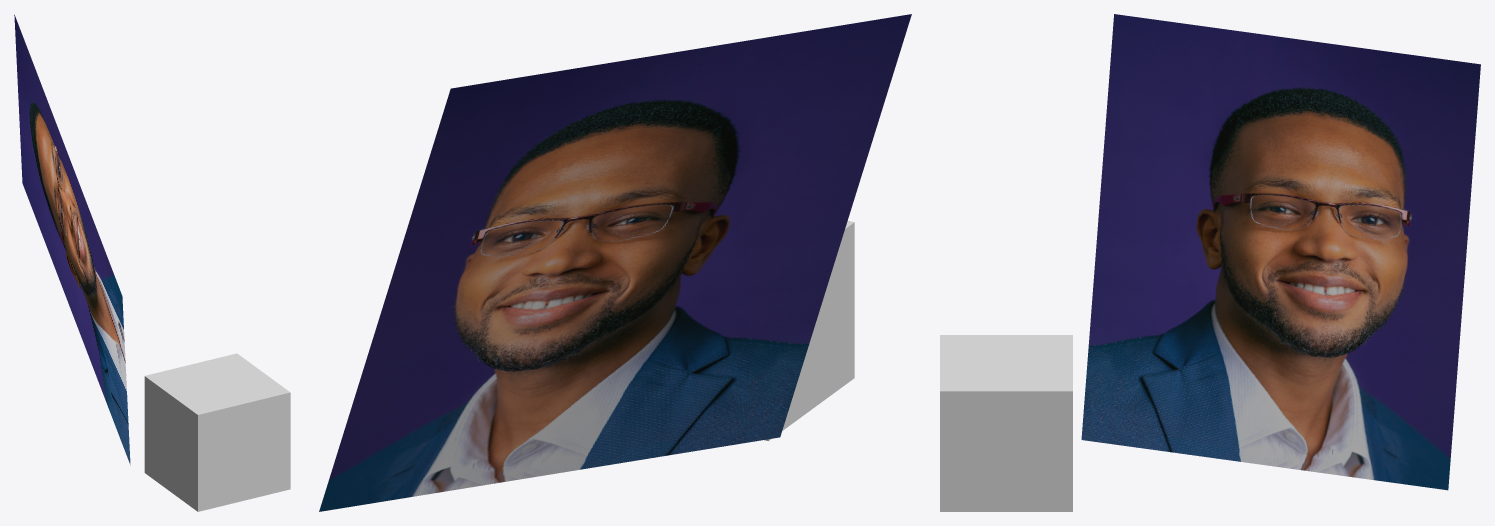
File: 3d_portrait.glb
The picture shows the model from 3 angles, left to right: view 1: azimuth 30°, elevation 25°; view 2: azimuth 150°, elevation 25°; view 3: azimuth 270°, elevation 25°; orthographic projection. The views are drawn at different scales.
Visible parts, largest first — view 1: Cube, Plane; view 2: Plane, Cube; view 3: Plane, Cube.
Part boxes in pixels (x1,y1,x2,y2): Cube: [144, 353, 290, 511]; Plane: [14, 14, 130, 465]; Plane: [319, 14, 911, 511]; Cube: [764, 220, 854, 440]; Plane: [1081, 14, 1480, 490]; Cube: [940, 335, 1072, 511].
Bounding box in the file's own units: 5.06 × 6.83 × 8.13.
Materials: 2 (1 with a texture image).
